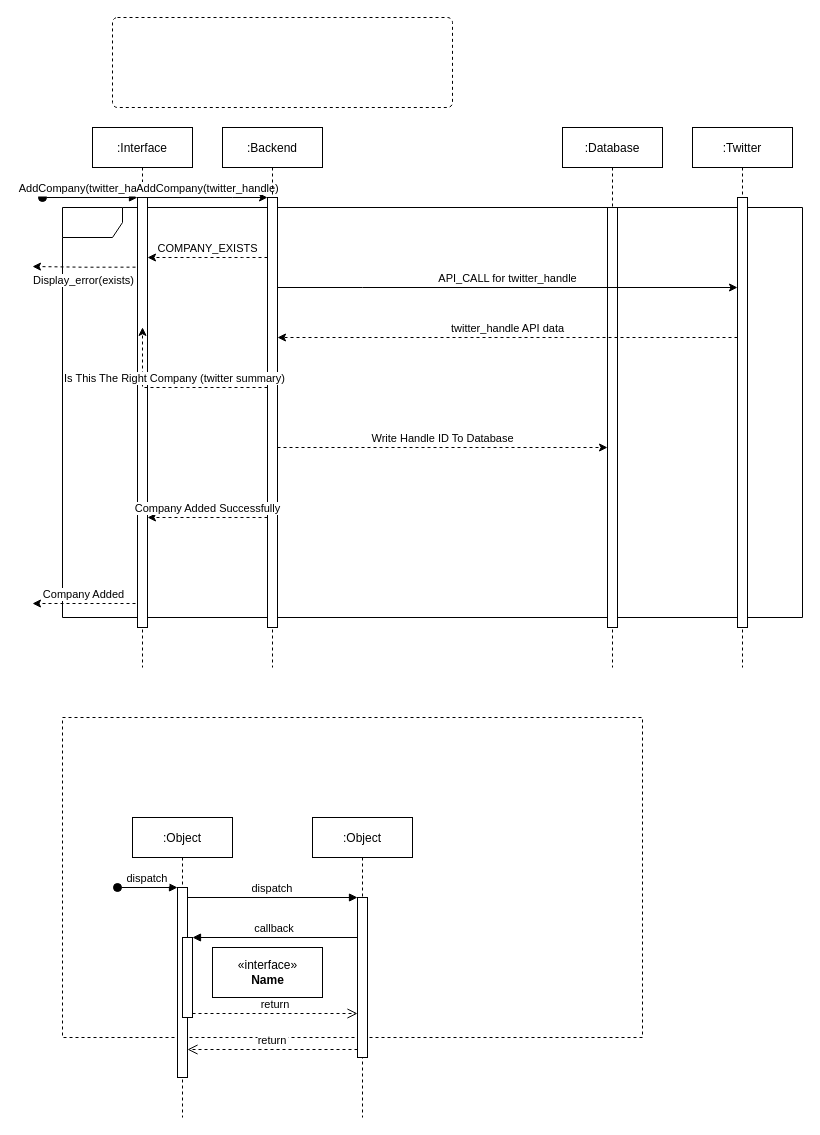
Some shapes in this 820 by 1135 pixel diagram are drawn without their labels. The box of each missing label's shape, as (x1, y1, x2, y2) in pixels:
Alt: (62, 206, 802, 618)
Company In Database: (112, 16, 452, 108)
Company Is Not In Database: (62, 716, 642, 1038)
